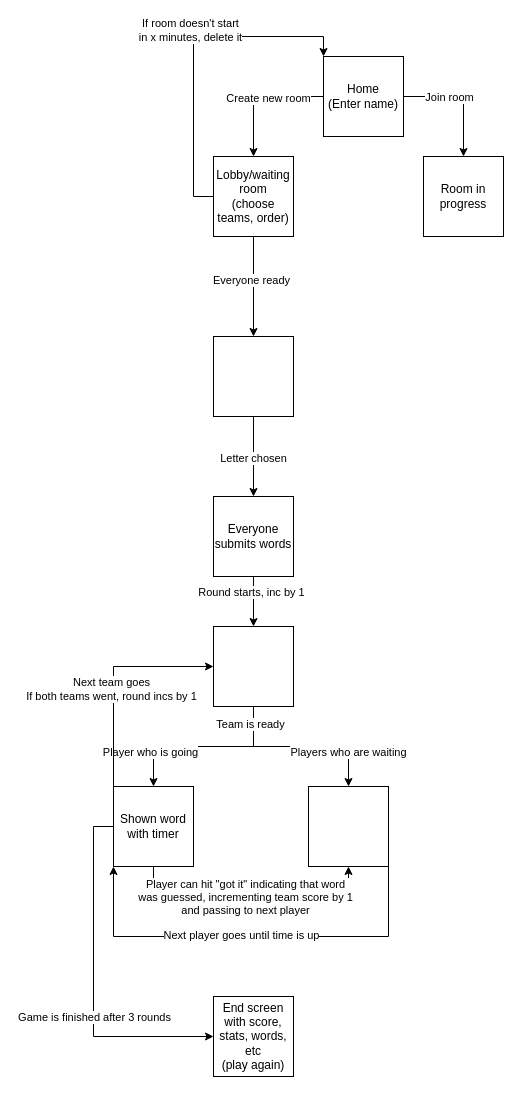
Image size: 521x1094. Some labels were removed from this diagram. The centre of each missing label's shape, as x and y in pixels:
Choose letter (random, can add voting later): the point at 253,376
Show timer: the point at 348,826
Team readies up: the point at 253,666
